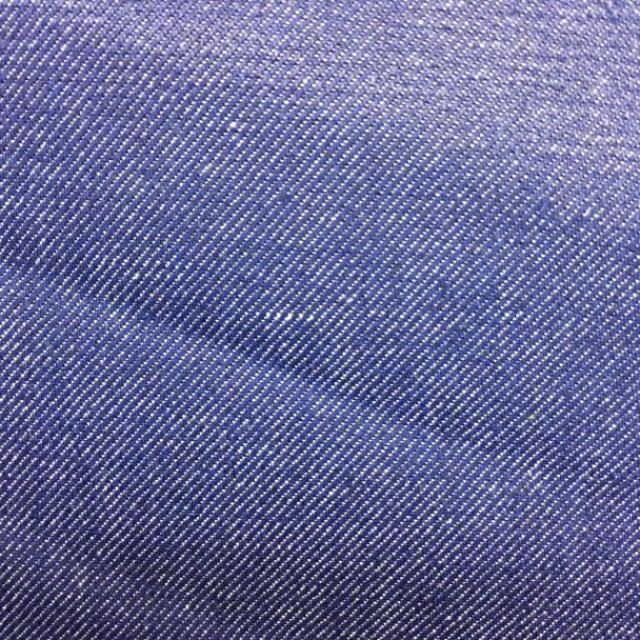Knot: (258, 307, 317, 325)
